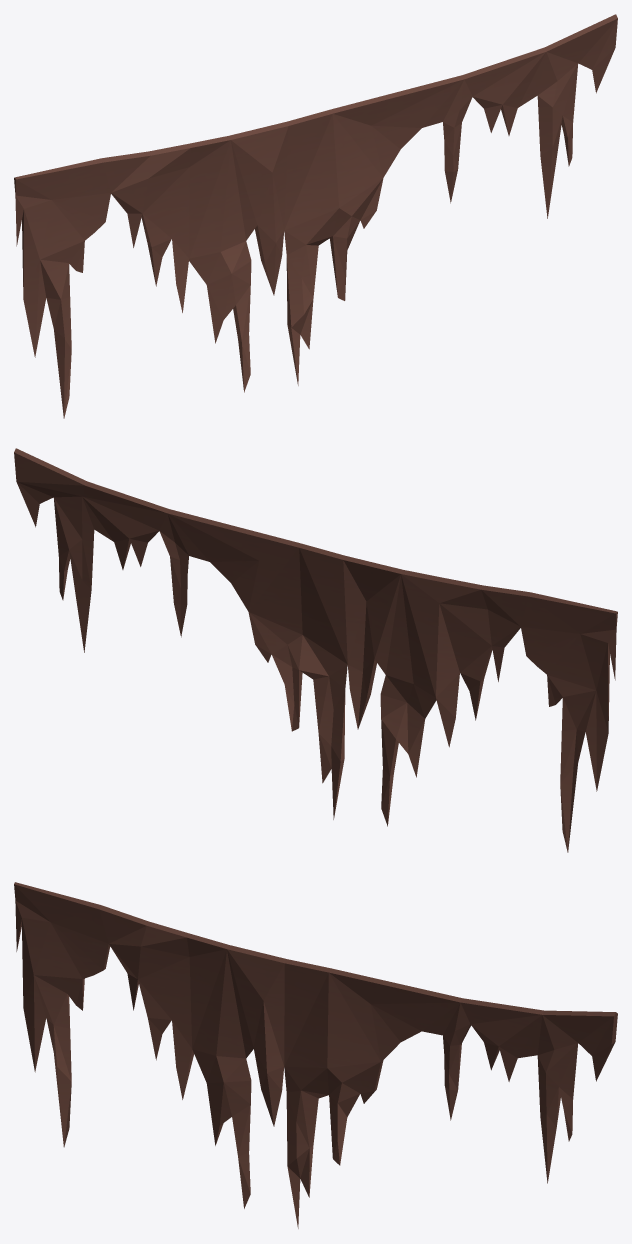
The model's file is ZLP_Rag_A_4.FBX.
The picture shows the model from 3 angles, top to bottom: view 1: azimuth 30°, elevation 25°; view 2: azimuth 150°, elevation 25°; view 3: azimuth 330°, elevation 25°; orthographic projection.
Parts seen in each view (by area): view 1: ZLP_Rag_A_4; view 2: ZLP_Rag_A_4; view 3: ZLP_Rag_A_4.
Part boxes in pixels (x1,y1,x2,y2): ZLP_Rag_A_4: [14, 14, 617, 418]; ZLP_Rag_A_4: [14, 448, 617, 852]; ZLP_Rag_A_4: [14, 882, 617, 1228].
Bounding box in the file's own units: 895 × 420 × 29.32.
